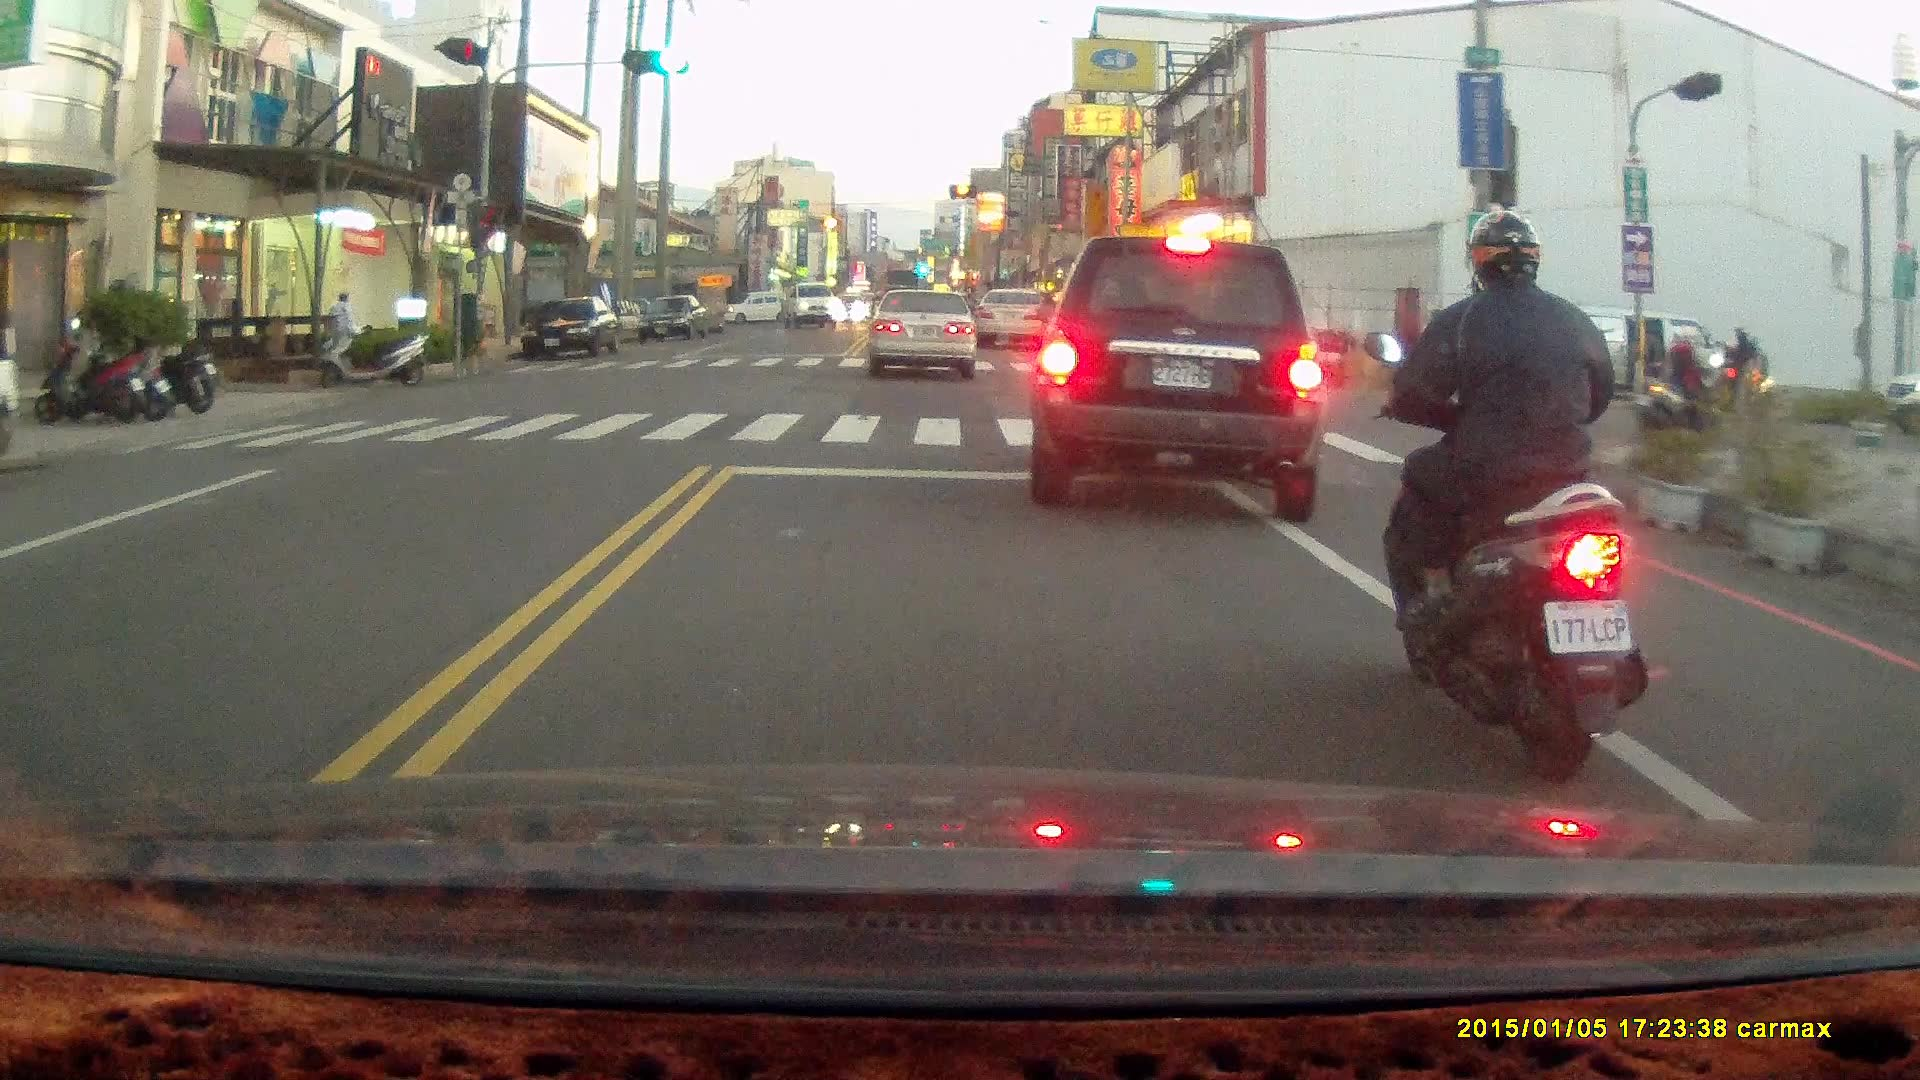pedestrian: (327, 292, 359, 358), (1640, 321, 1663, 397)
rider: (1358, 209, 1649, 780), (1632, 323, 1726, 450), (1691, 321, 1769, 420)
vehicle: (1029, 236, 1324, 526), (867, 294, 980, 390), (520, 299, 616, 363), (975, 287, 1057, 353), (634, 298, 709, 347), (780, 283, 840, 334)
